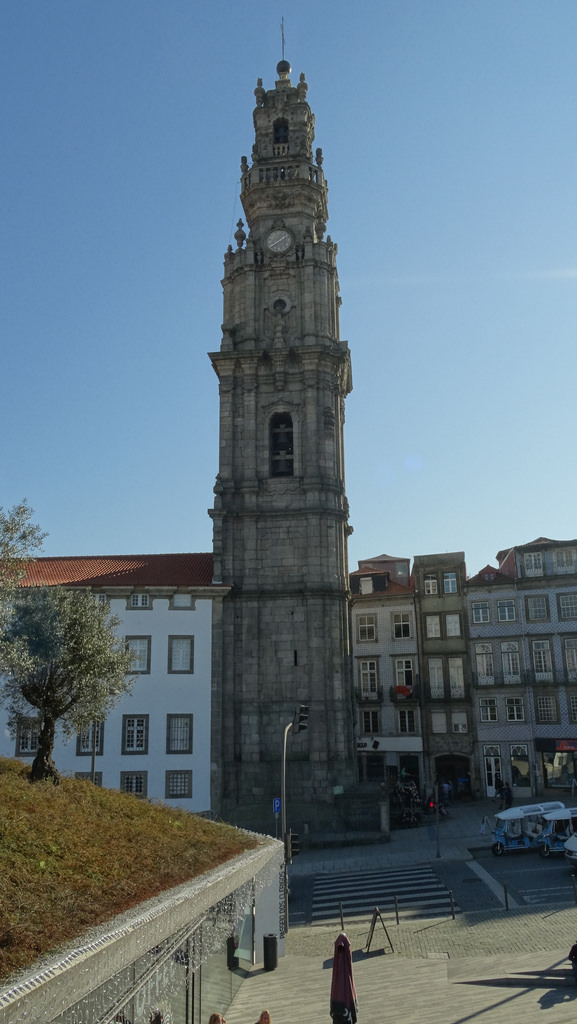clerigos: (208, 10, 366, 838)
